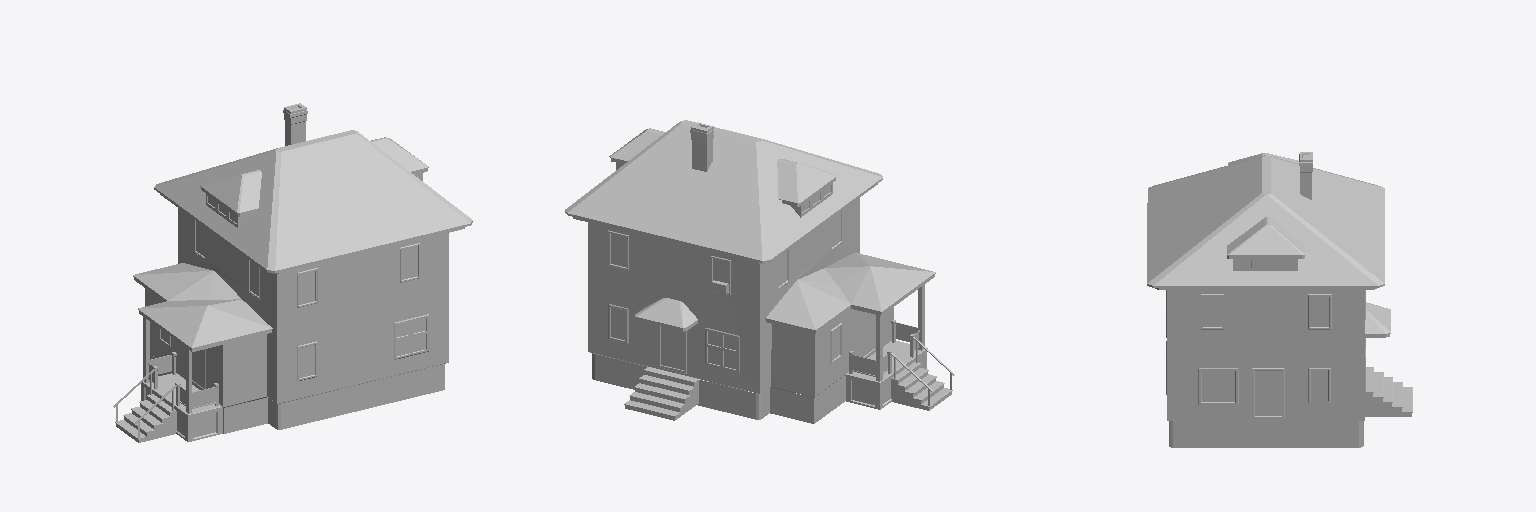
The model's file is house.obj.
The picture shows the model from 3 angles: view 1: azimuth 30°, elevation 25°; view 2: azimuth 150°, elevation 25°; view 3: azimuth 270°, elevation 25°; orthographic projection.
Parts seen in each view (by area): view 1: house; view 2: house; view 3: house.
Boxes of the visible parts, <box> form: house: <box>113,103,472,442</box>; house: <box>565,120,954,423</box>; house: <box>1147,152,1412,447</box>.
Size of the model in its own units: 1.78 by 1.4 by 1.33.